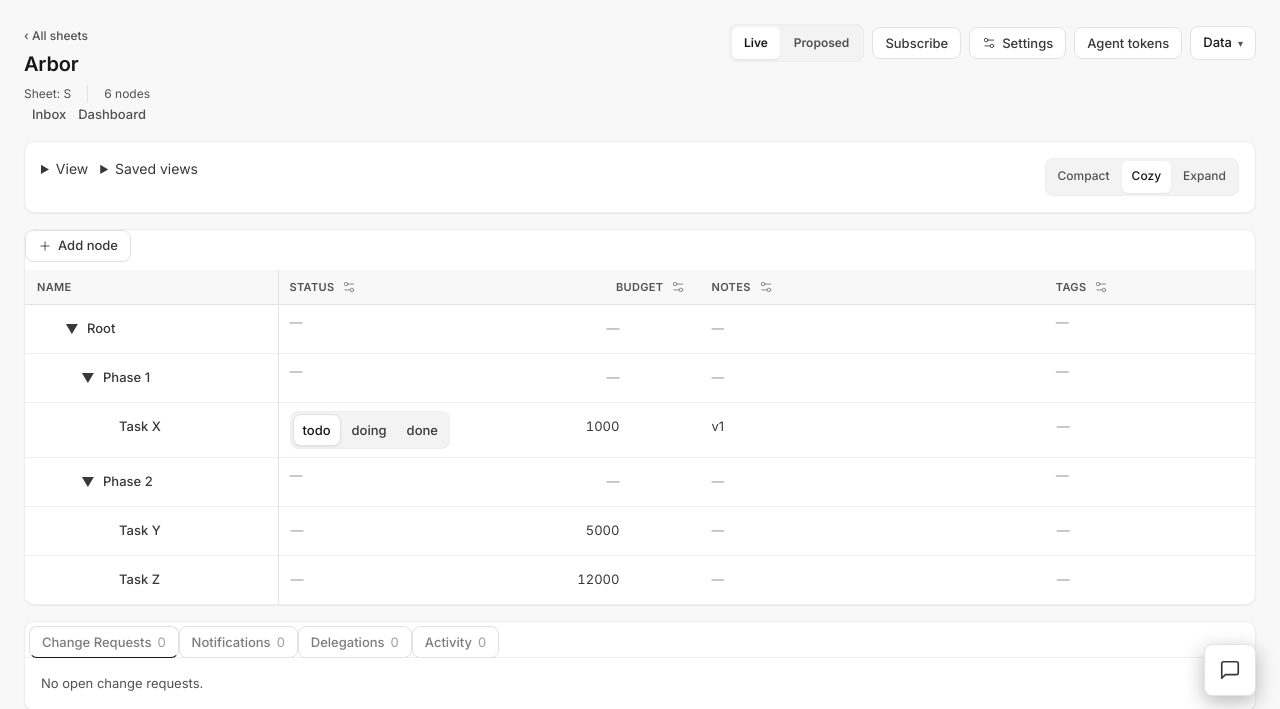
Test: App — snapshot-driven shell wiring › review modal: submit → ONE multi-change CR, drafts cleared, pending mark on the cell
This screenshot has width=1280, height=709.
Expected: the table with test id "tree-table" is shown, [25,270,1255,604]
Step 1. Click the element with test id "cell" showing "1000" → (603, 426), box [586,418,619,434]
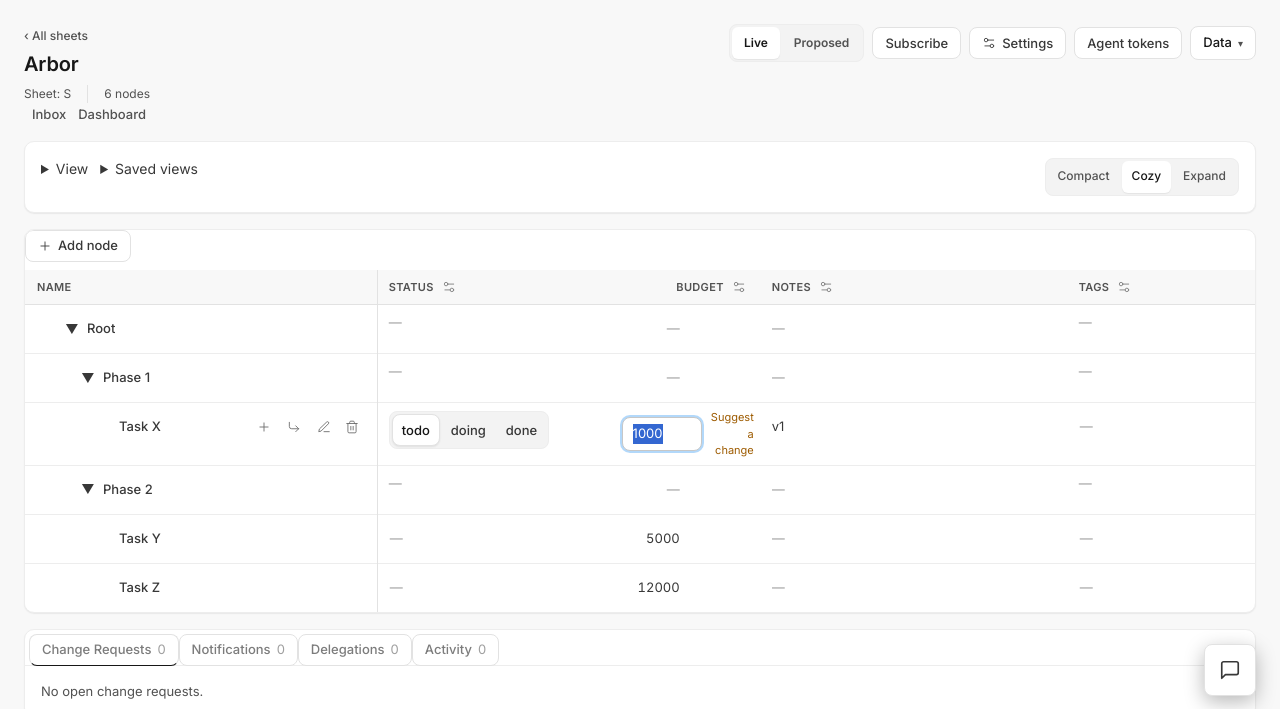
Step 2. Replace the text in the field with test id "cell-input" with "500" → (662, 434), box [622,417,702,450]
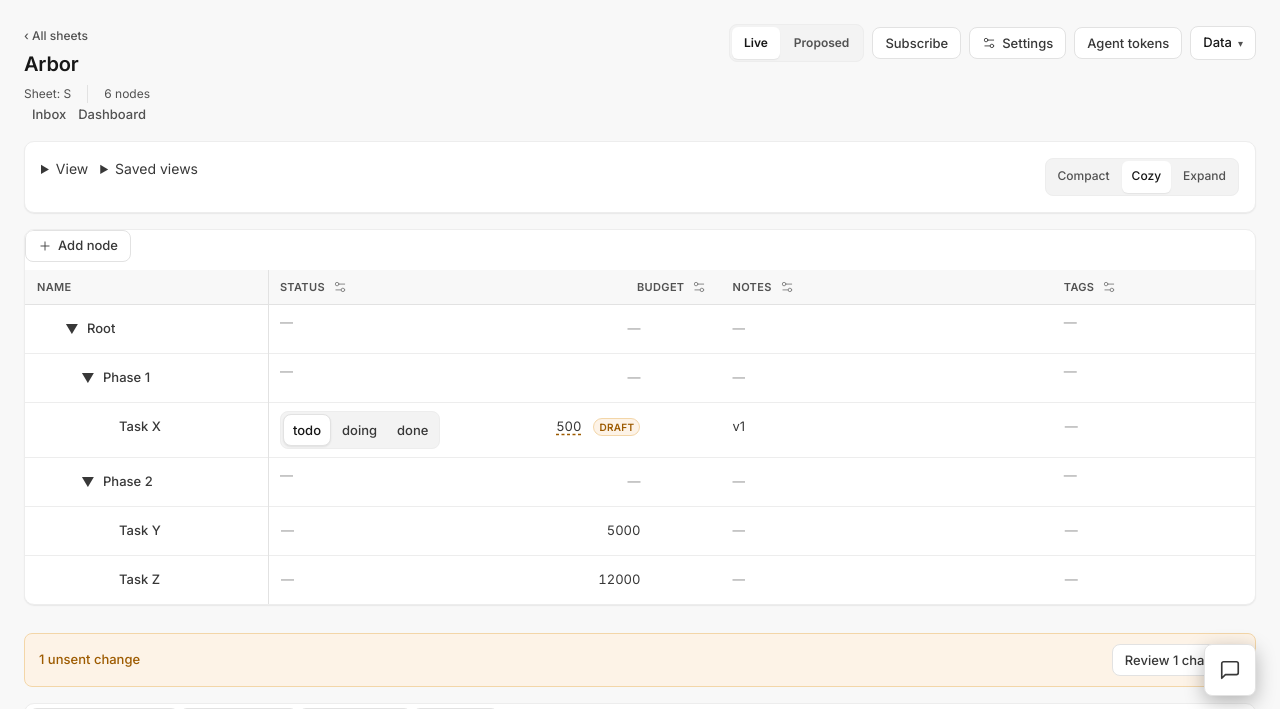
Note: open the review modal from the bar.
Step 3. Click the button with test id "draft-bar-review" → (1176, 660), box [1112,644,1241,676]
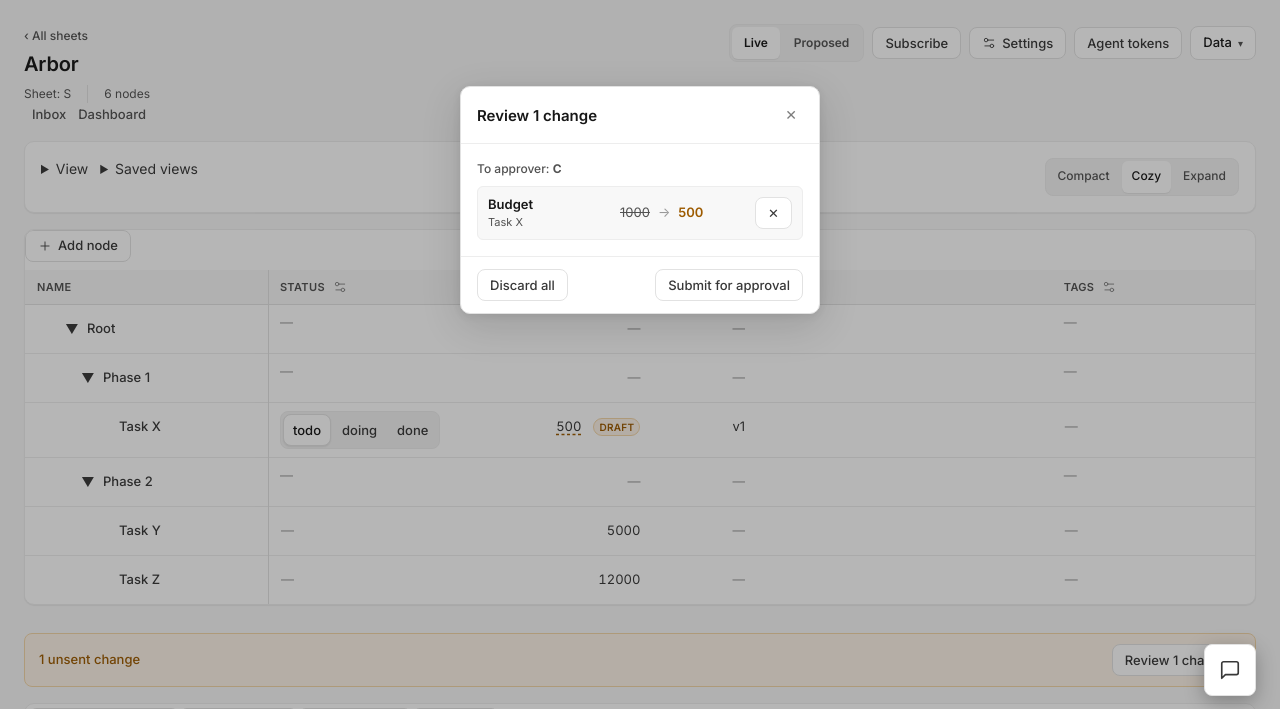
Now the element with test id "draft-group-C" is shown, box [477,160,803,240]
Now the text with test id "draft-old" reads "1000", box [620,204,650,220]
Now the text with test id "draft-new" reads "500", box [678,204,703,220]
Step 4. Click the button with test id "draft-submit" → (729, 285), box [655,269,803,301]
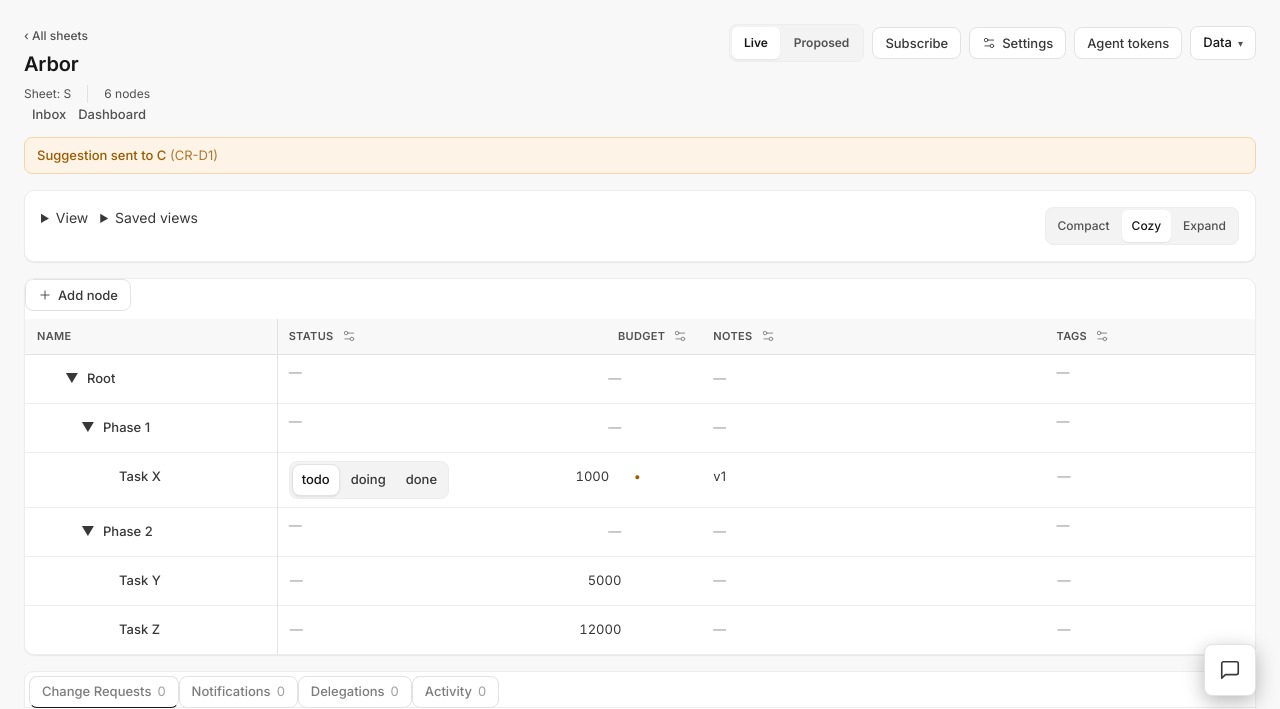
Now the message with test id "draft-bar" is gone
Now the message with test id "banner" shows "Suggestion sent to C", box [37,146,166,162]
Now the text "•" is shown, box [634,467,640,486]
